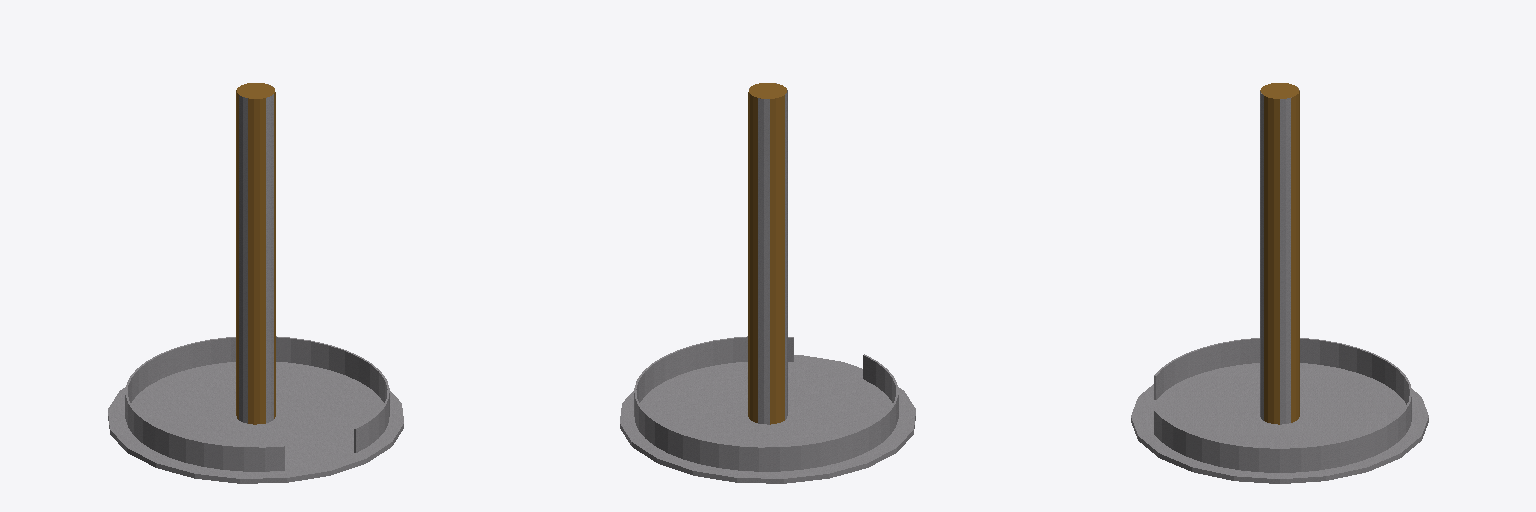
3 renders of one model, left to right at view 1: azimuth 30°, elevation 25°; view 2: azimuth 150°, elevation 25°; view 3: azimuth 270°, elevation 25°, orthographic.
Visible parts, largest first — view 1: baseelevador:pCylinder8; view 2: baseelevador:pCylinder8; view 3: baseelevador:pCylinder8.
Boxes of the visible parts, x1,y1,x2,y2 form: baseelevador:pCylinder8: [108, 83, 403, 483]; baseelevador:pCylinder8: [620, 83, 915, 483]; baseelevador:pCylinder8: [1131, 83, 1428, 483].
Size of the model in its own units: 13.12 by 16.03 by 13.12.
1 materials, 1 textured.